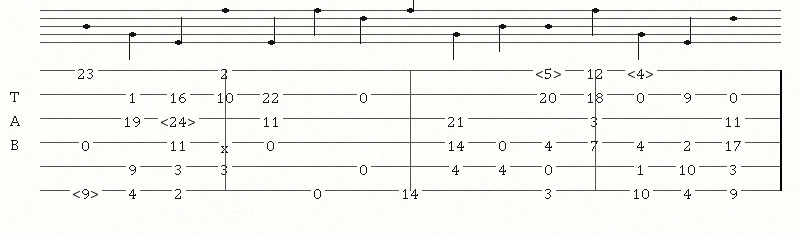0: (81, 135, 94, 149), (266, 135, 279, 149), (313, 183, 326, 197), (359, 159, 372, 173), (359, 87, 372, 101), (498, 135, 511, 149), (544, 159, 557, 173), (636, 87, 649, 101), (729, 87, 742, 101)
1: (128, 87, 141, 101), (636, 159, 649, 173)
10: (216, 87, 238, 101), (632, 183, 654, 197), (678, 159, 700, 173)
11: (169, 135, 191, 149), (262, 111, 284, 125), (724, 111, 746, 125)
12: (586, 63, 608, 77)
14: (401, 183, 423, 197), (447, 135, 469, 149)
16: (169, 87, 191, 101)
17: (724, 135, 746, 149)
18: (586, 87, 608, 101)
19: (123, 111, 145, 125)
2: (174, 183, 187, 197), (220, 63, 233, 77), (683, 135, 696, 149)
20: (539, 87, 561, 101)
21: (447, 111, 469, 125)
22: (262, 87, 284, 101)
23: (77, 63, 99, 77)
3: (174, 159, 187, 173), (220, 159, 233, 173), (544, 183, 557, 197), (590, 111, 603, 125), (729, 159, 742, 173)
4: (128, 183, 141, 197), (451, 159, 464, 173), (498, 159, 511, 173), (544, 135, 557, 149), (636, 135, 649, 149), (683, 183, 696, 197)
7: (590, 135, 603, 149)
9: (128, 159, 141, 173), (683, 87, 696, 101), (729, 183, 742, 197)
harmonic: (160, 111, 200, 125), (535, 63, 566, 78), (72, 183, 103, 197), (627, 63, 658, 77)
x: (221, 137, 233, 148)
